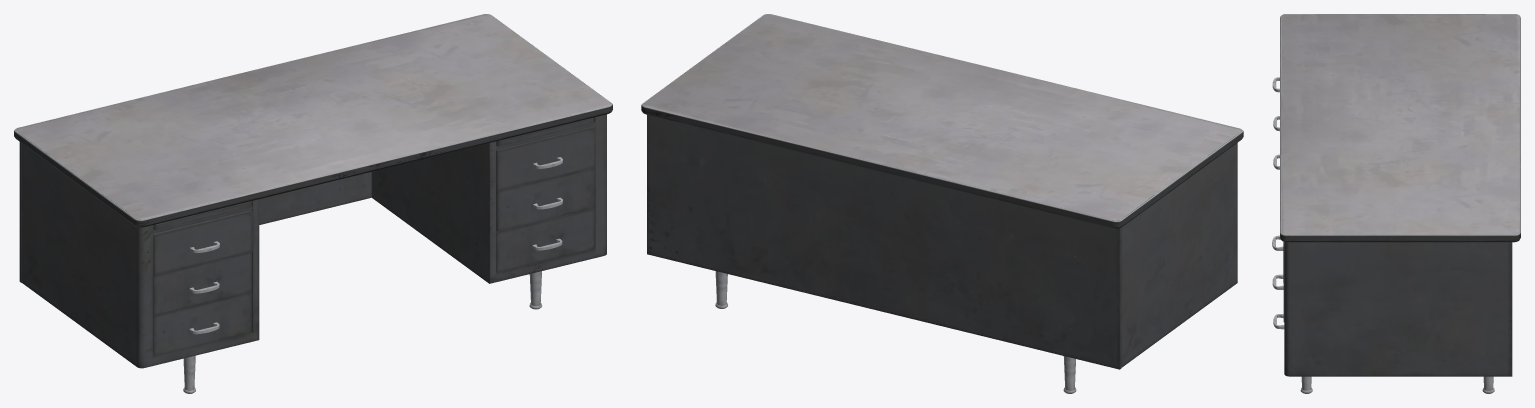
File: metal_office_desk.gltf
The picture shows the model from 3 angles, left to right: view 1: azimuth 30°, elevation 25°; view 2: azimuth 150°, elevation 25°; view 3: azimuth 270°, elevation 25°; orthographic projection. The views are drawn at different scales.
Parts seen in each view (by area): view 1: metal_office_desk, metal_office_desk_drawer_04, metal_office_desk_drawer_01, metal_office_desk_drawer_02, metal_office_desk_drawer_03, metal_office_desk_drawer_06, metal_office_desk_drawer_05, metal_office_desk_tray_01, metal_office_desk_tray_02; view 2: metal_office_desk; view 3: metal_office_desk.
Boxes of the visible parts, x1,y1,x2,y2 form: metal_office_desk: (14, 14, 612, 393); metal_office_desk_drawer_04: (153, 210, 252, 275); metal_office_desk_drawer_01: (496, 126, 595, 191); metal_office_desk_drawer_02: (496, 167, 595, 231); metal_office_desk_drawer_03: (496, 208, 594, 272); metal_office_desk_drawer_06: (153, 292, 251, 356); metal_office_desk_drawer_05: (153, 252, 251, 315); metal_office_desk_tray_01: (153, 201, 251, 230); metal_office_desk_tray_02: (496, 117, 594, 146); metal_office_desk: (641, 14, 1243, 393); metal_office_desk: (1280, 14, 1520, 393).
Size of the model in its own units: 2 by 0.7875 by 0.9472.
1 material, 1 textured.
